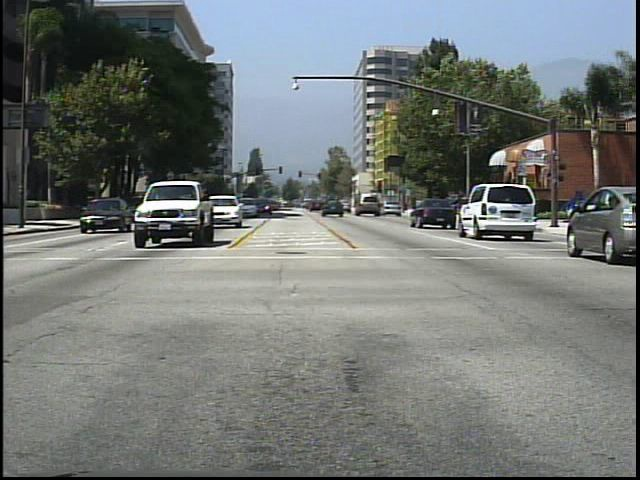person: (500, 190, 520, 229), (459, 191, 476, 227)
